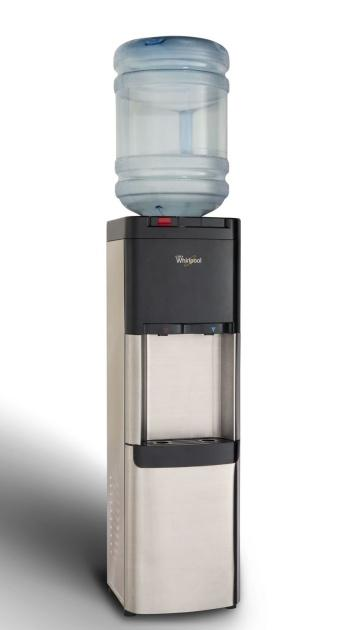Dispenser: (106, 35, 240, 619)
